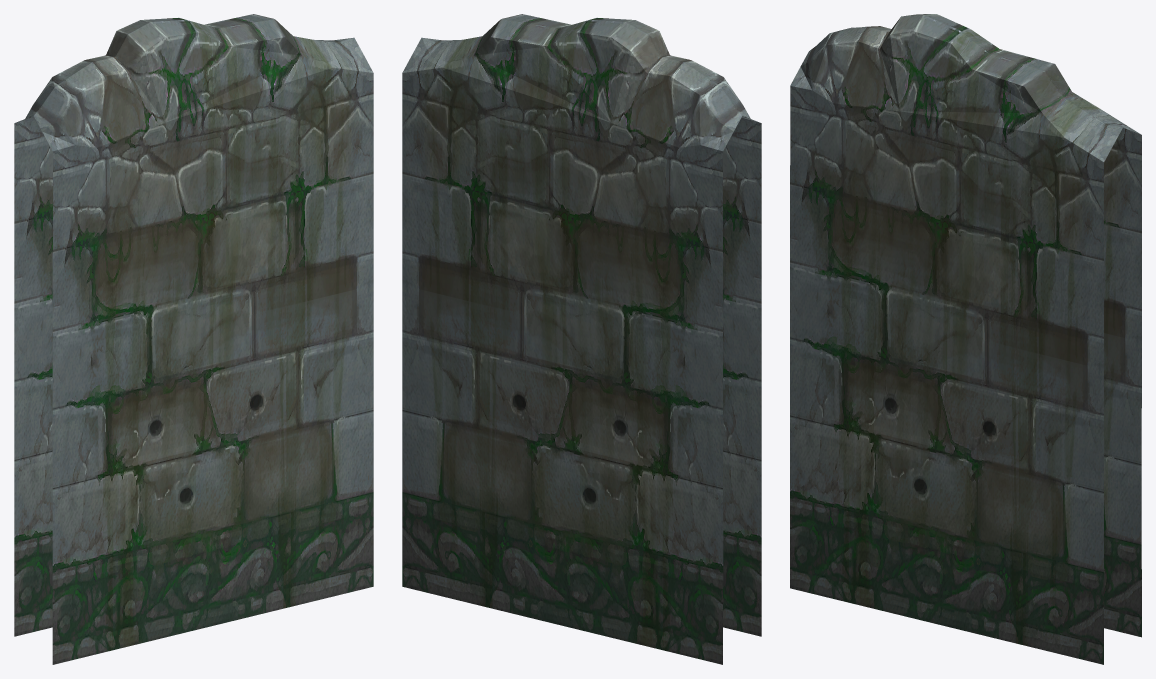
Rendered from stemple_wall_straight_dart_02.fbx.
3 views of the same model, side by side, from view 1: azimuth 30°, elevation 25°; view 2: azimuth 150°, elevation 25°; view 3: azimuth 330°, elevation 25° (orthographic). The views are drawn at different scales.
Visible parts, largest first — view 1: obj1.118; view 2: obj1.118; view 3: obj1.118.
Part boxes in pixels (<box>): obj1.118: <box>14,14,373,664</box>; obj1.118: <box>402,14,761,664</box>; obj1.118: <box>790,14,1141,664</box>.
Size of the model in its own units: 4 by 7.15 by 0.8319.
